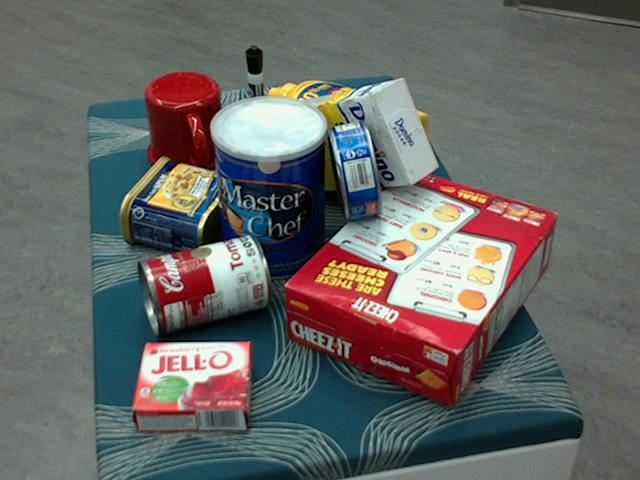cracker_box: (282, 167, 557, 405)
gelatin_box: (132, 341, 252, 429)
large_marker: (244, 45, 266, 148)
master_chef_can: (209, 97, 325, 282)
mug: (144, 72, 230, 174)
mustard_bottle: (266, 79, 427, 173)
potted_meat_can: (118, 156, 240, 255)
sugar_box: (271, 79, 437, 190)
tomato_soup_can: (136, 235, 269, 333)
tuna_fish_can: (328, 118, 382, 218)
